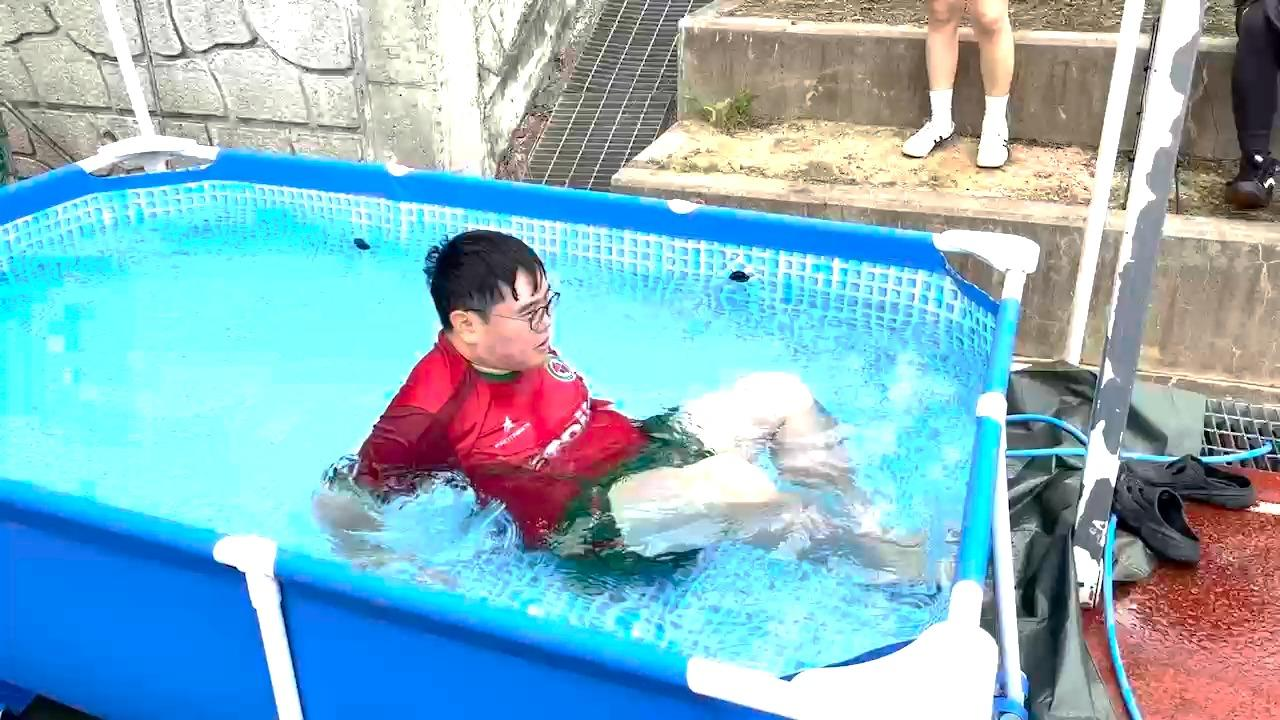Swimming: (332, 186, 896, 612)
